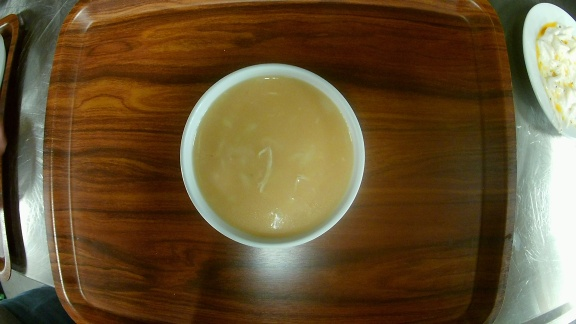tavukcorba: (175, 62, 368, 249)
